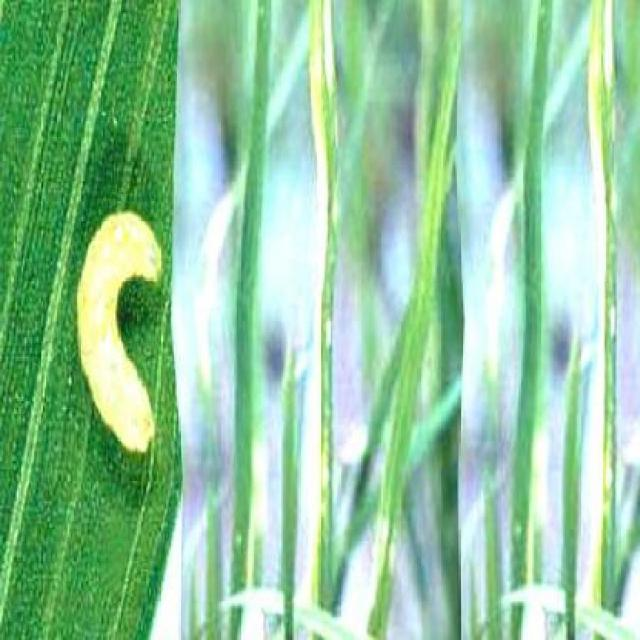whorl-maggot: (77, 202, 166, 468)
